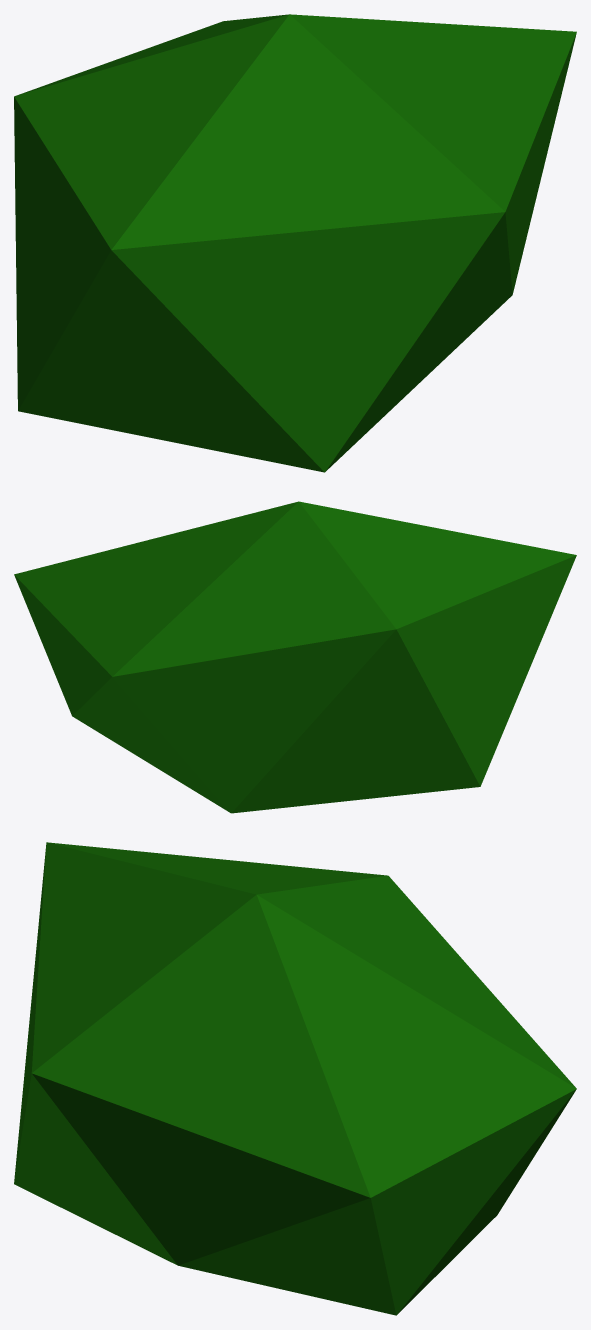
File: Bush_3.fbx
3 renders of one model, top to bottom at view 1: azimuth 30°, elevation 25°; view 2: azimuth 150°, elevation 25°; view 3: azimuth 270°, elevation 25°, orthographic. The views are drawn at different scales.
Visible parts, largest first — view 1: Bush_3; view 2: Bush_3; view 3: Bush_3.
Boxes of the visible parts, x1=… form: Bush_3: x1=14, y1=14, x2=576, y2=472; Bush_3: x1=14, y1=501, x2=576, y2=813; Bush_3: x1=14, y1=842, x2=576, y2=1315.
Bounding box in the file's own units: 1.77 × 1.04 × 1.41.
